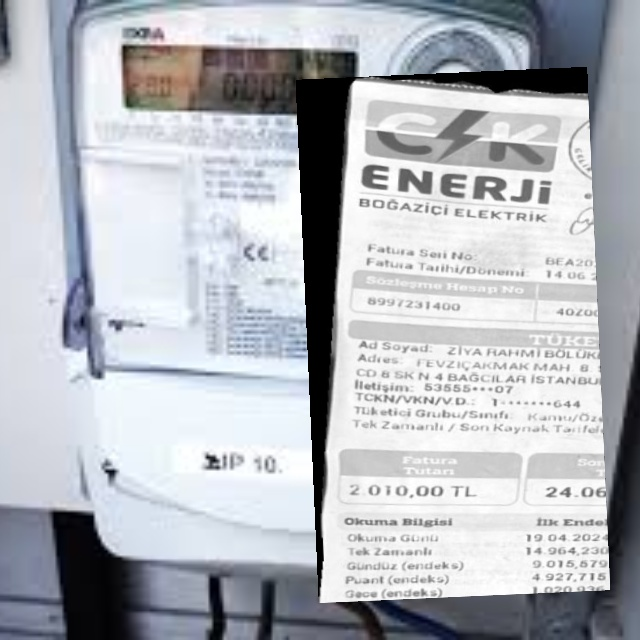electricity-bill: (295, 66, 609, 602)
